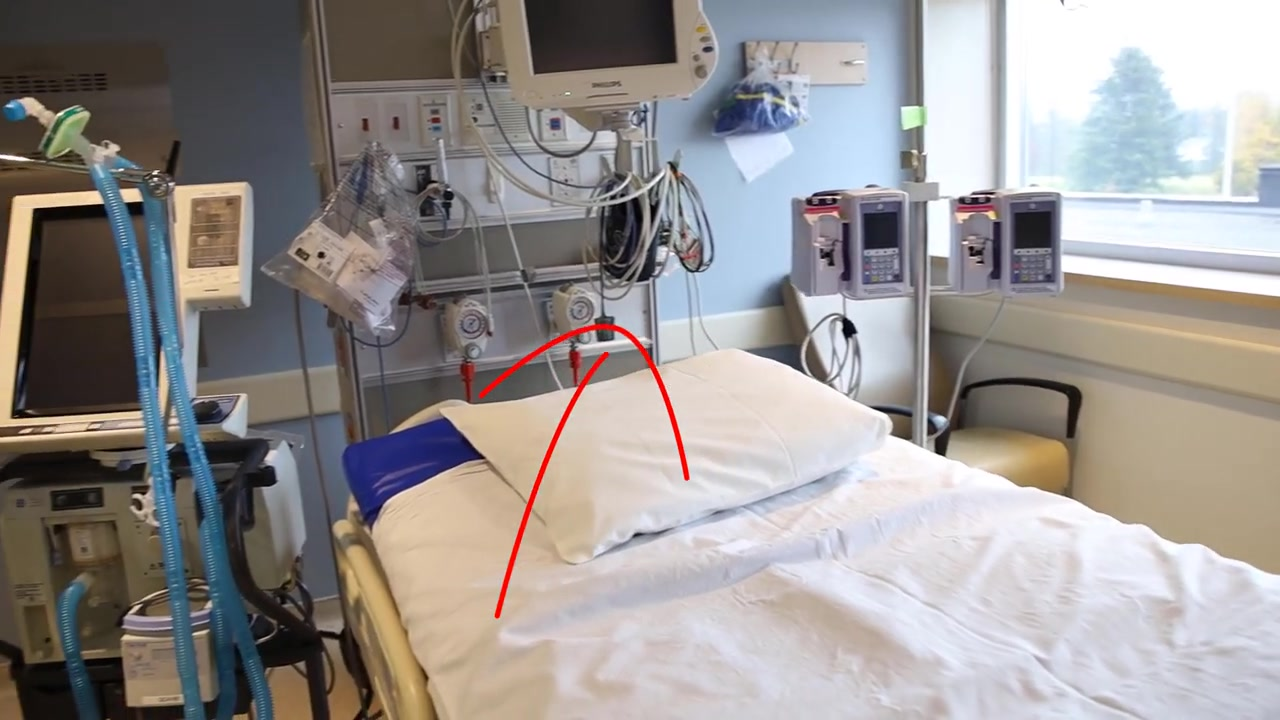bedrail: (328, 519, 438, 720)
bedside_monitor: (496, 1, 719, 110)
breathing_tube: (1, 97, 274, 720)
chair: (780, 274, 1083, 502)
hospital_bed: (331, 348, 1280, 720)
infusion_pump: (792, 187, 918, 300), (949, 188, 1066, 297)
iv_pole: (901, 1, 938, 448)
ventilator: (1, 171, 310, 720)
